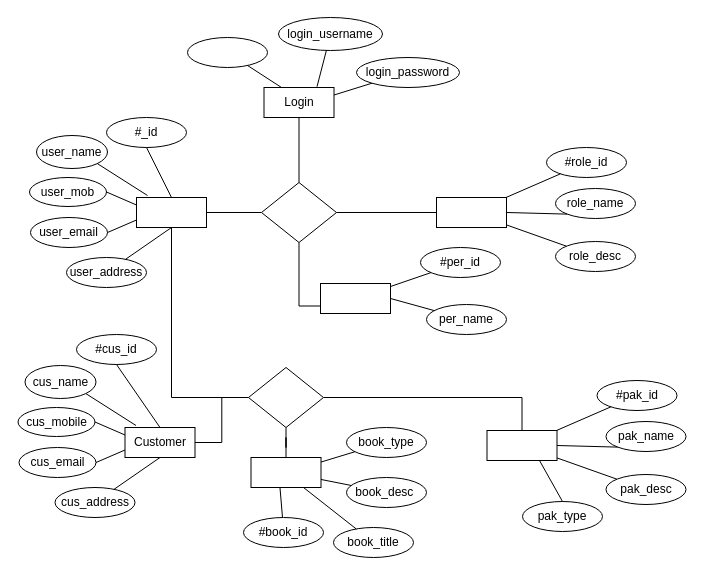
Image size: 703x575. Some labels were removed from this diagram. Here are the shapes that lost their labels. From the top down, the centre of each, then its label:
At point 227,52: "#login_id".
At point 171,212: "User".
At point 298,212: "Has".
At point 471,212: "Roles".
At point 355,298: "Permission".
At point 286,397: "Manage".
At point 521,445: "Package".
At point 285,472: "Booking".
